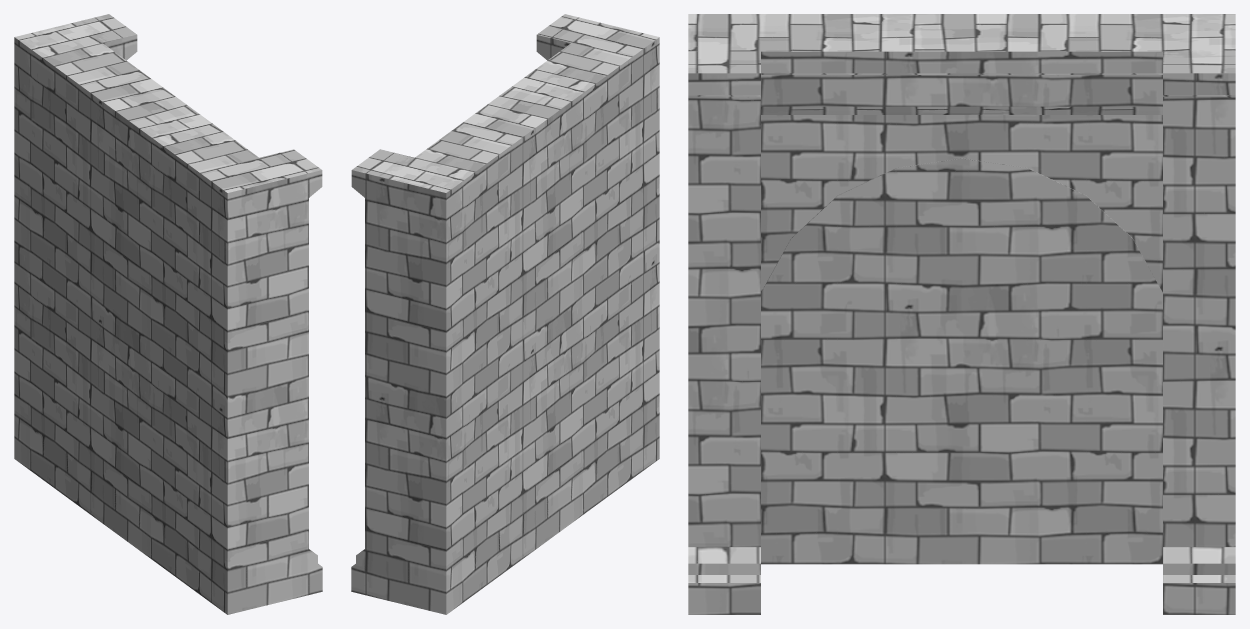
File: StationWall_B_001.fbx
3 renders of one model, left to right at view 1: azimuth 30°, elevation 25°; view 2: azimuth 150°, elevation 25°; view 3: azimuth 270°, elevation 25°, orthographic. The views are drawn at different scales.
Visible parts, largest first — view 1: StationWall_B_001; view 2: StationWall_B_001; view 3: StationWall_B_001.
Boxes of the visible parts, left/top/right/bottom form: StationWall_B_001: left=14, top=14, right=322, bottom=614; StationWall_B_001: left=351, top=14, right=659, bottom=614; StationWall_B_001: left=688, top=14, right=1235, bottom=614.
Bounding box in the file's own units: 90.92 × 386 × 353.
Materials: 2 (2 with a texture image).
